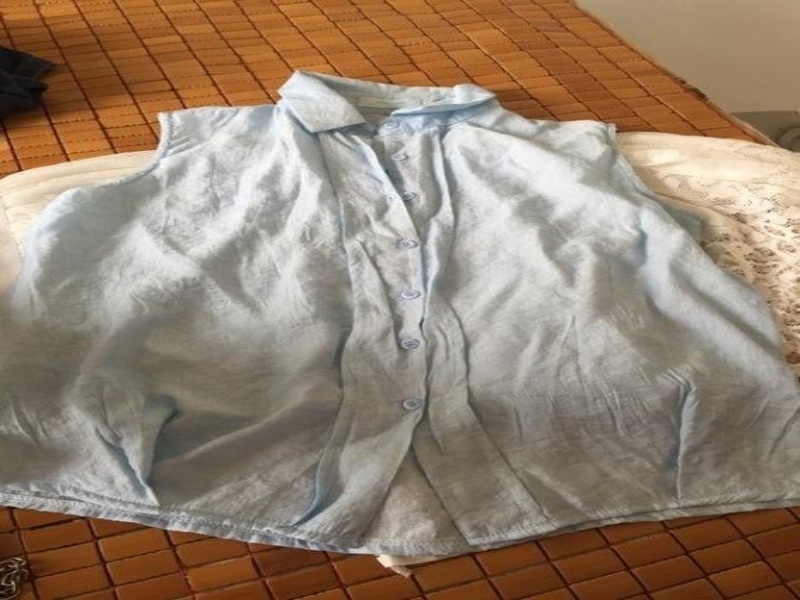vest: (0, 67, 798, 562)
